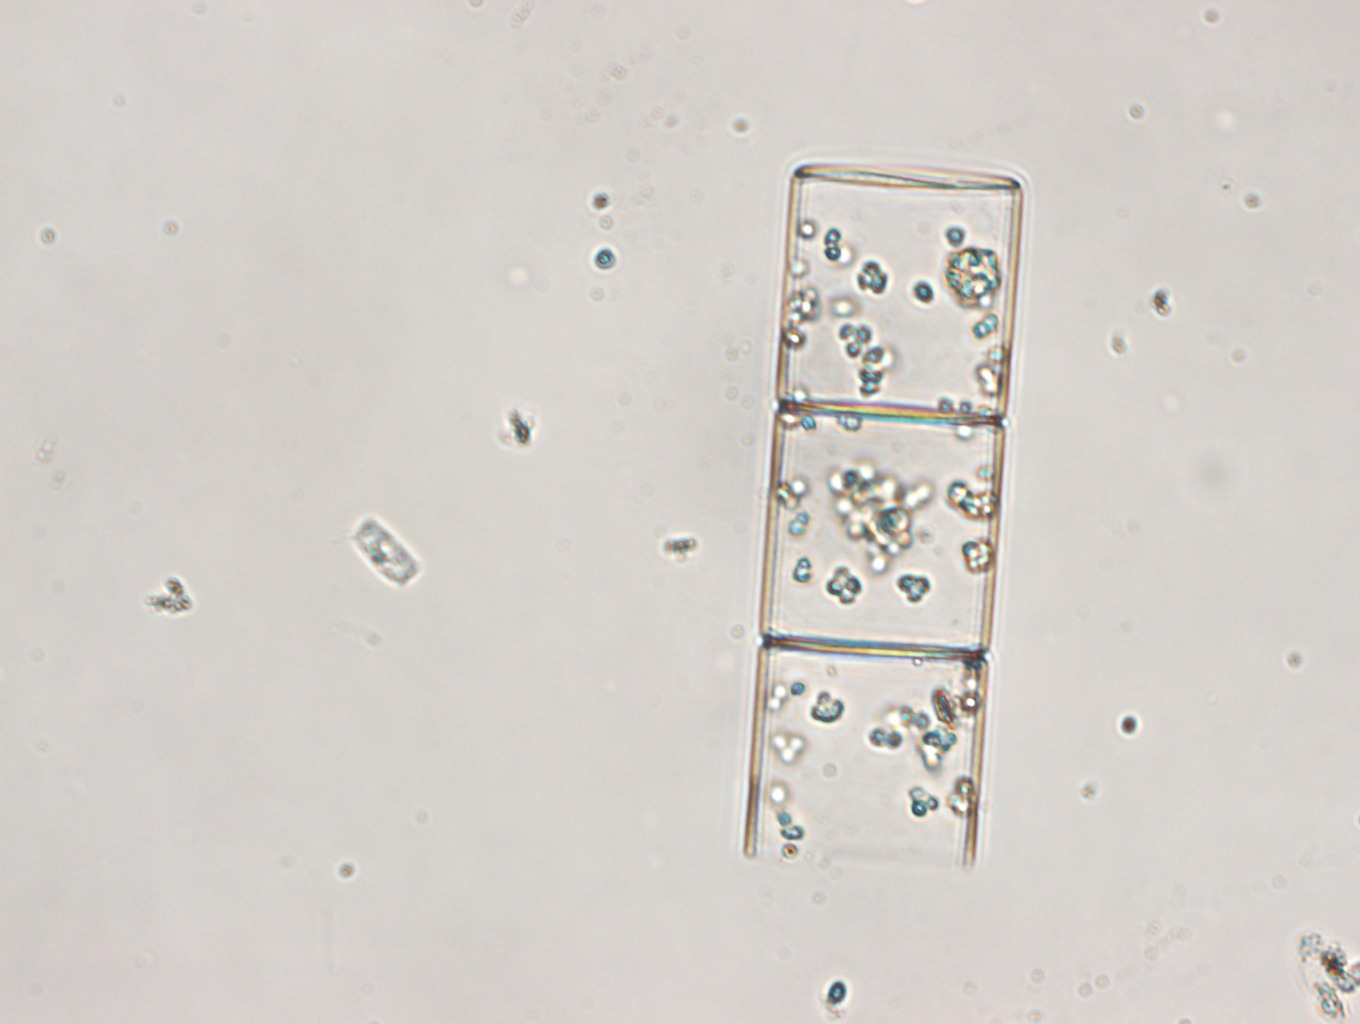guinardia flaccida: (740, 155, 1028, 877)
